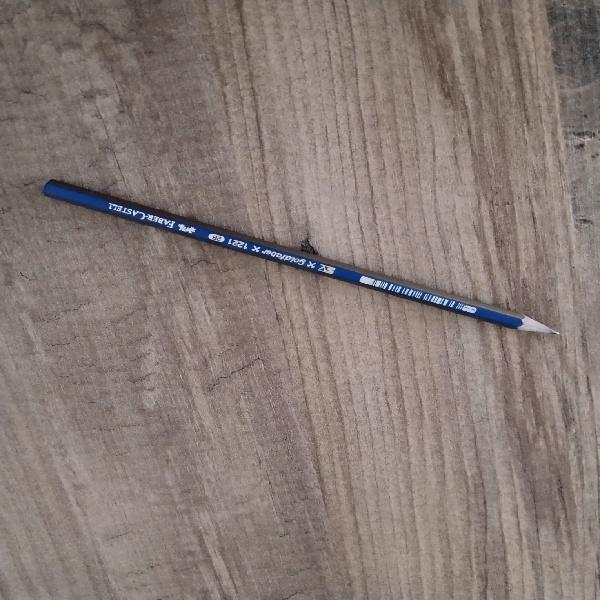pencil: (45, 180, 556, 333)
